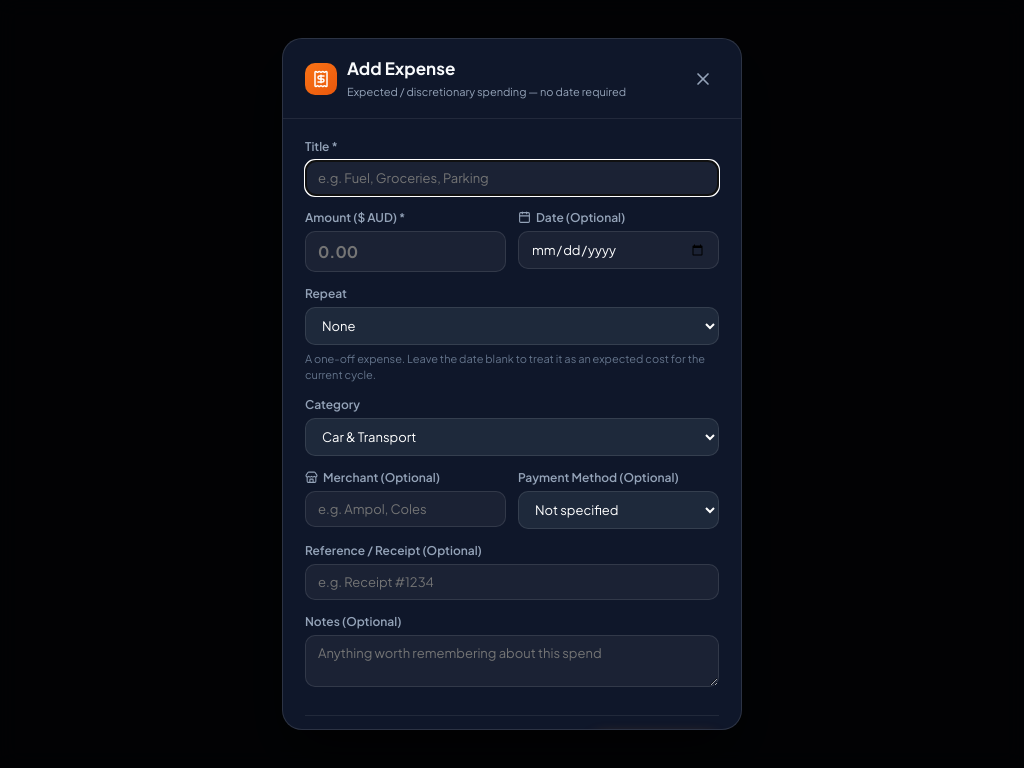
Test case: General Expenses: modal create / edit / delete › rejects a non-positive amount
Type "Fuel" into the field with placeholder "e.g. Fuel, Groceries, Parking" at (512, 178), box [305, 160, 719, 196]
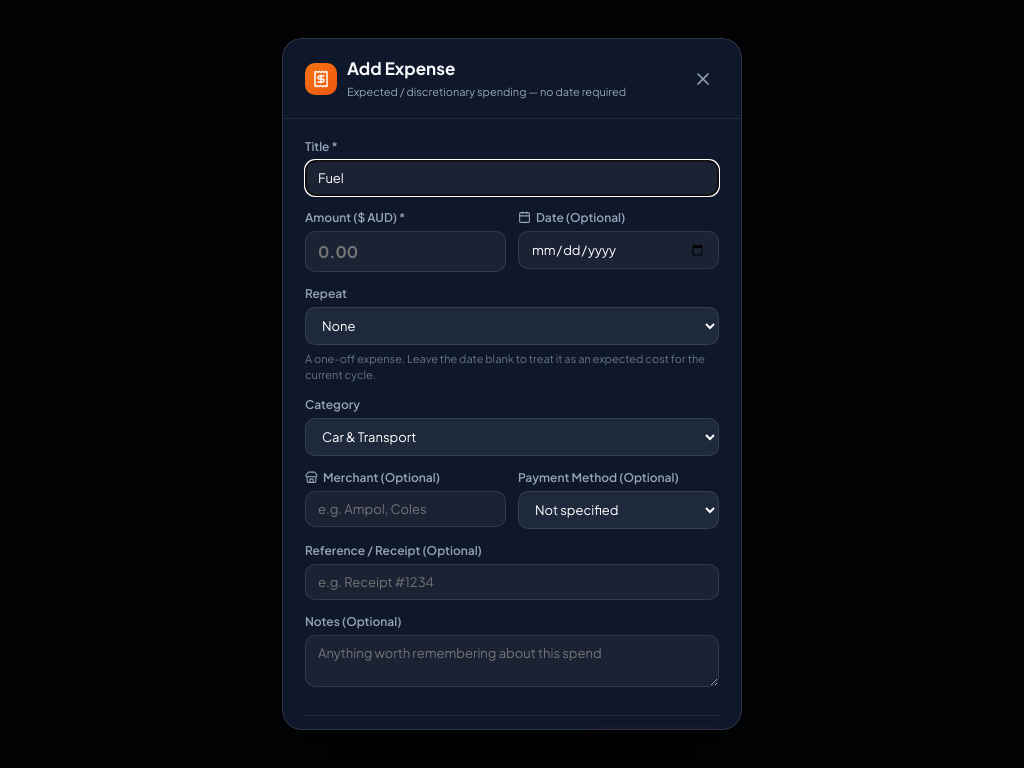
Type "0" into the number field with placeholder "0.00" at (406, 252), box [305, 231, 506, 272]
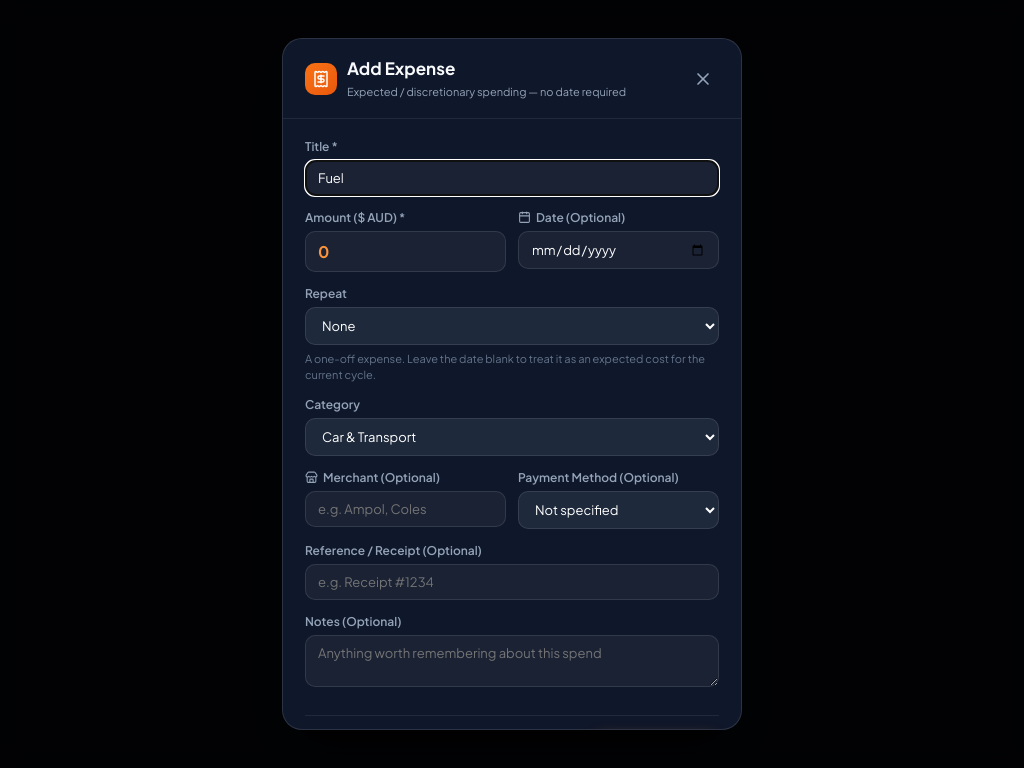
Submit the form, box [283, 119, 741, 729]
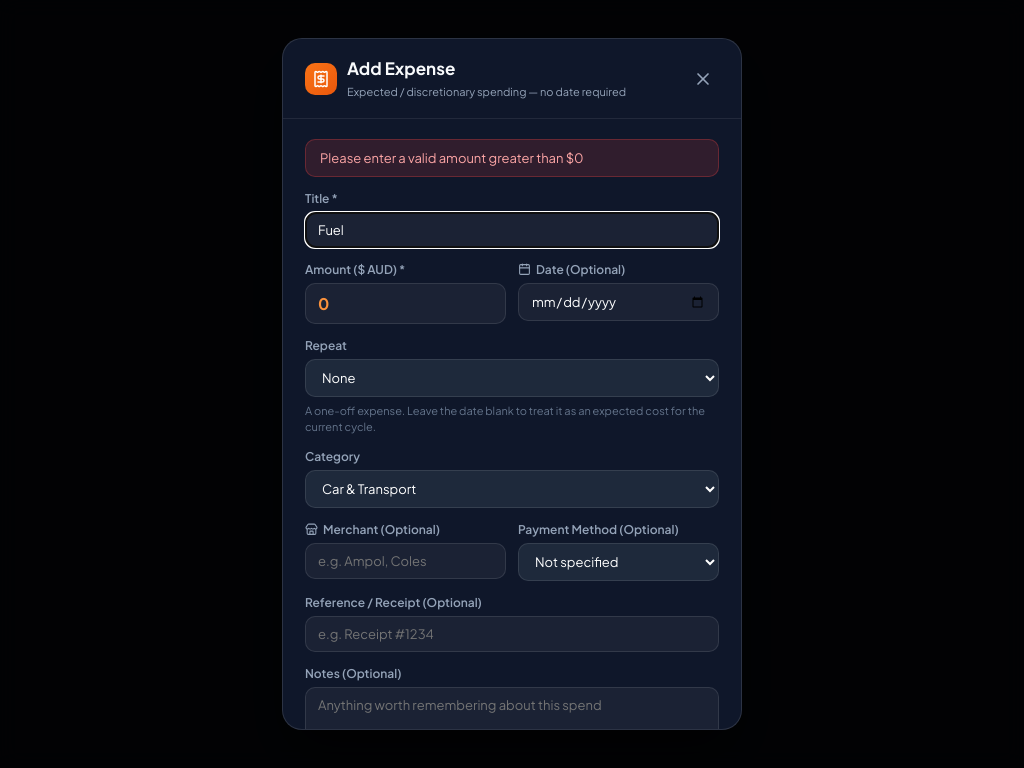
expect the message "Please enter a valid amount greater than $0" is shown: met, box [305, 139, 719, 177]
